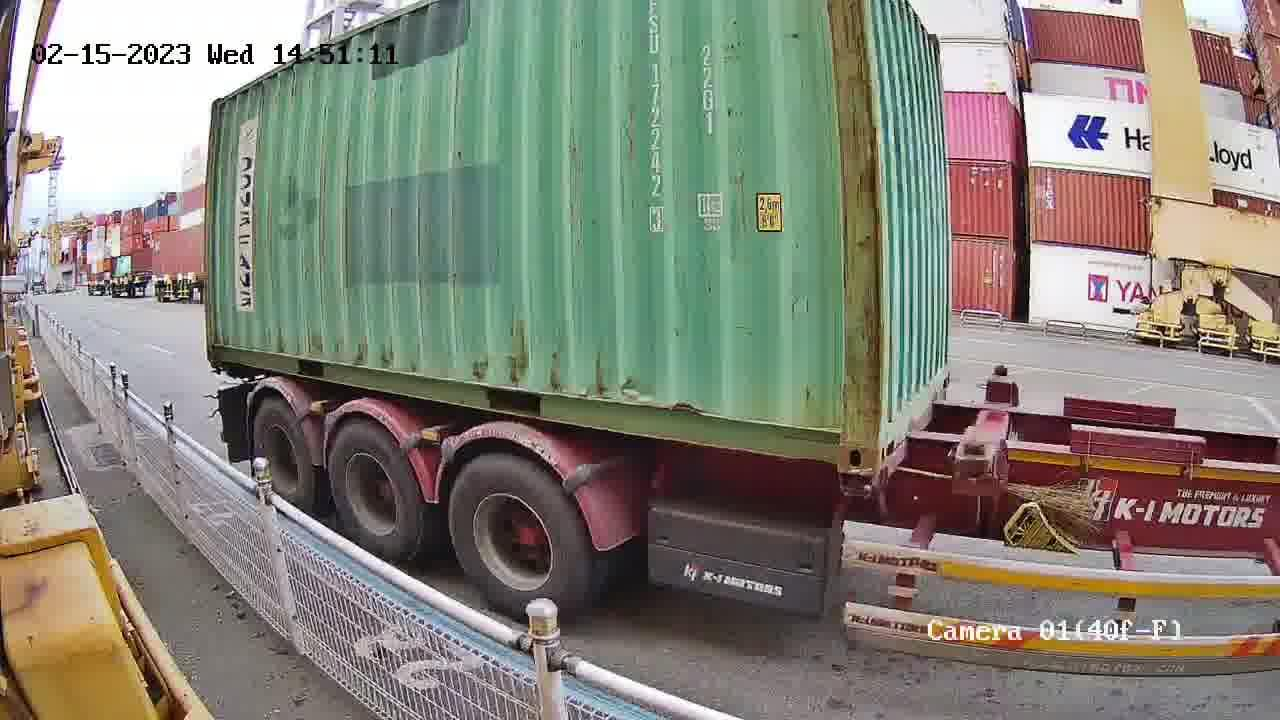Cone: (841, 470, 878, 495)
Hole_L: (879, 380, 914, 472)
Hole_R: (808, 397, 882, 471)
Tire: (451, 454, 583, 614), (328, 422, 422, 562), (253, 402, 311, 504)
